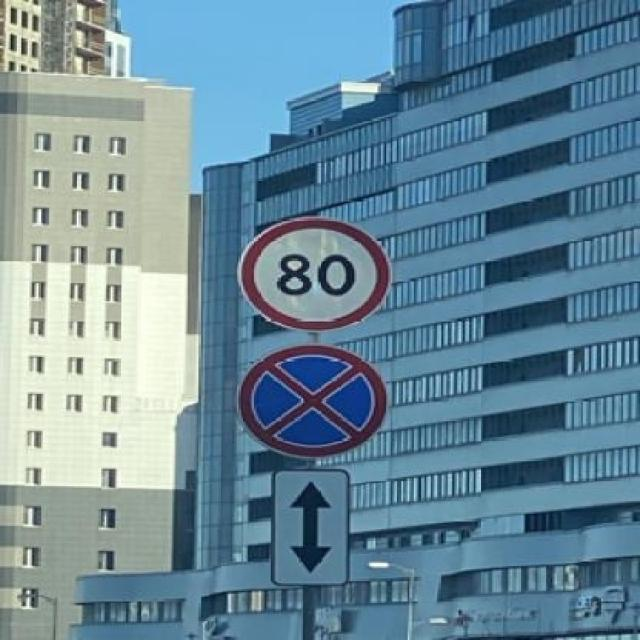forb_speed_over_80: (242, 217, 388, 332)
